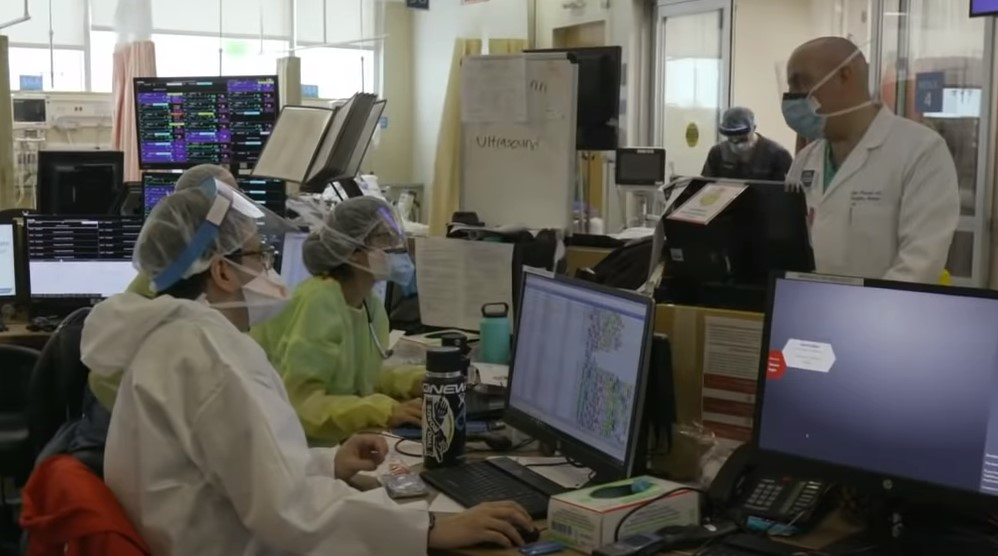face_with_mask: (187, 179, 292, 334), (777, 38, 860, 143), (334, 197, 421, 295), (715, 102, 764, 159)
